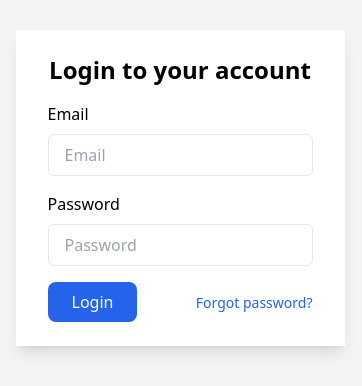
Test case: Login Component › displays error message on failed login
Type "wrong@example.com" into the field labelled "Email" at x=180, y=155, box x1=48 y1=134 x2=312 y2=176
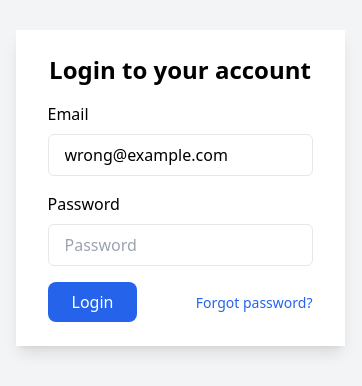
Type "wrongpass" into the password field labelled "Password" at x=180, y=245, box x1=48 y1=224 x2=312 y2=266
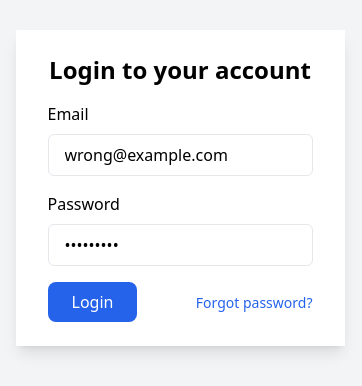
Click the button "Login" at x=92, y=302, box x1=48 y1=282 x2=137 y2=322
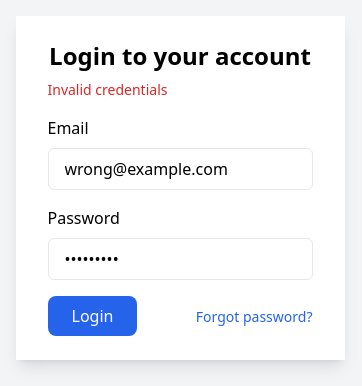
expect the text "Invalid credentials" is shown: met, box x1=48 y1=80 x2=168 y2=99
